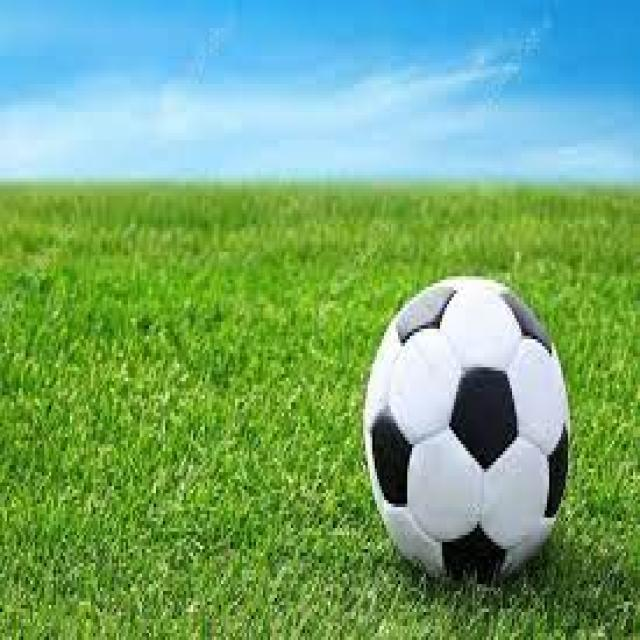ball: (365, 276, 569, 579)
